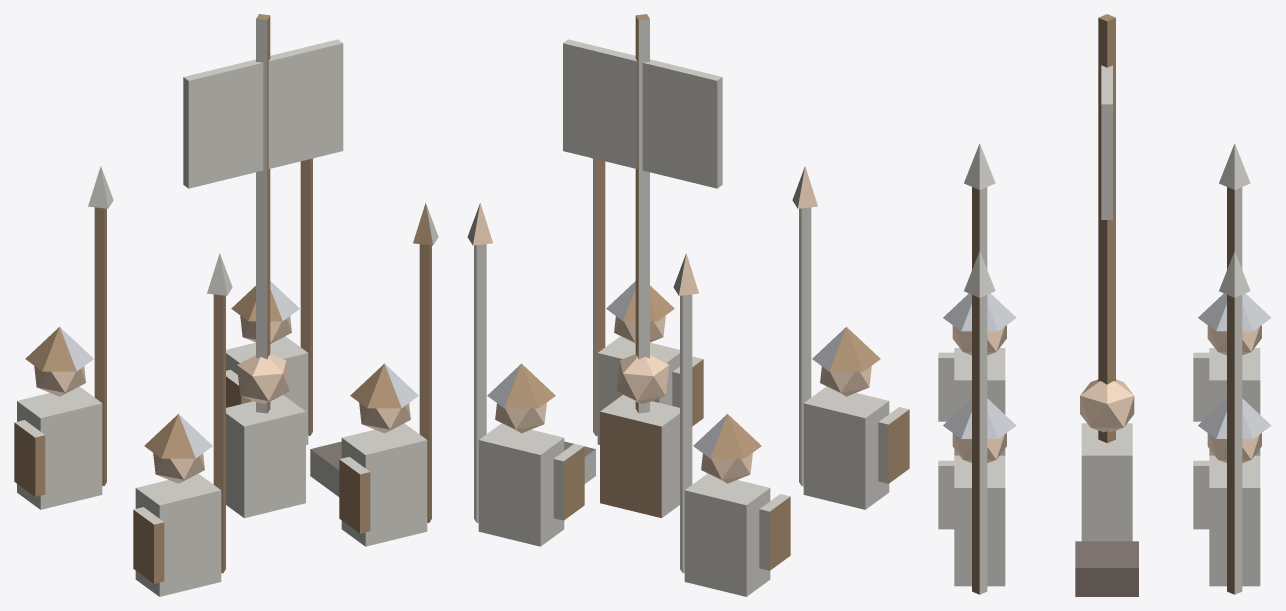
The model's file is army.glb.
3 views of the same model, side by side, from view 1: azimuth 30°, elevation 25°; view 2: azimuth 150°, elevation 25°; view 3: azimuth 270°, elevation 25° (orthographic). The views are drawn at different scales.
Visible parts, largest first — view 1: army; view 2: army; view 3: army.
Part boxes in pixels (box(x1,y1,x2,y2)): army: box(14, 14, 438, 596); army: box(467, 14, 909, 596); army: box(938, 14, 1271, 596).
Size of the model in its own units: 0.59 by 0.9 by 0.523.
